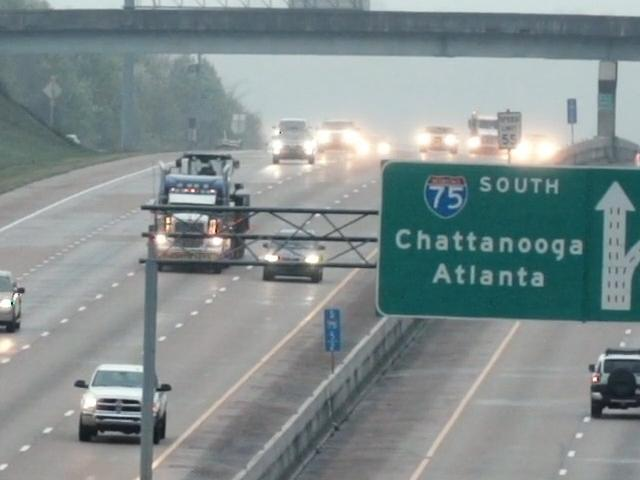car: (75, 358, 173, 443), (585, 348, 640, 420), (265, 228, 325, 285), (0, 268, 34, 340), (271, 126, 313, 169)
truck: (157, 150, 247, 275)
